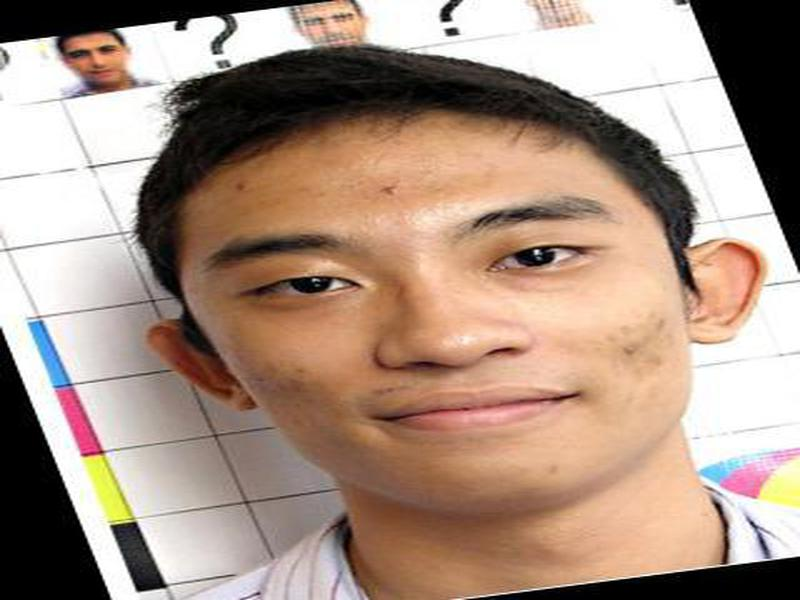without_mask: (176, 162, 687, 518)
